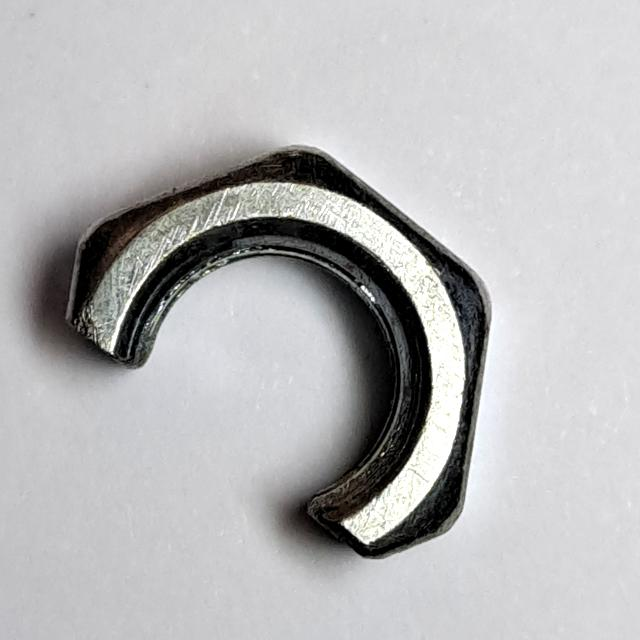Fracture: (57, 139, 507, 576)
